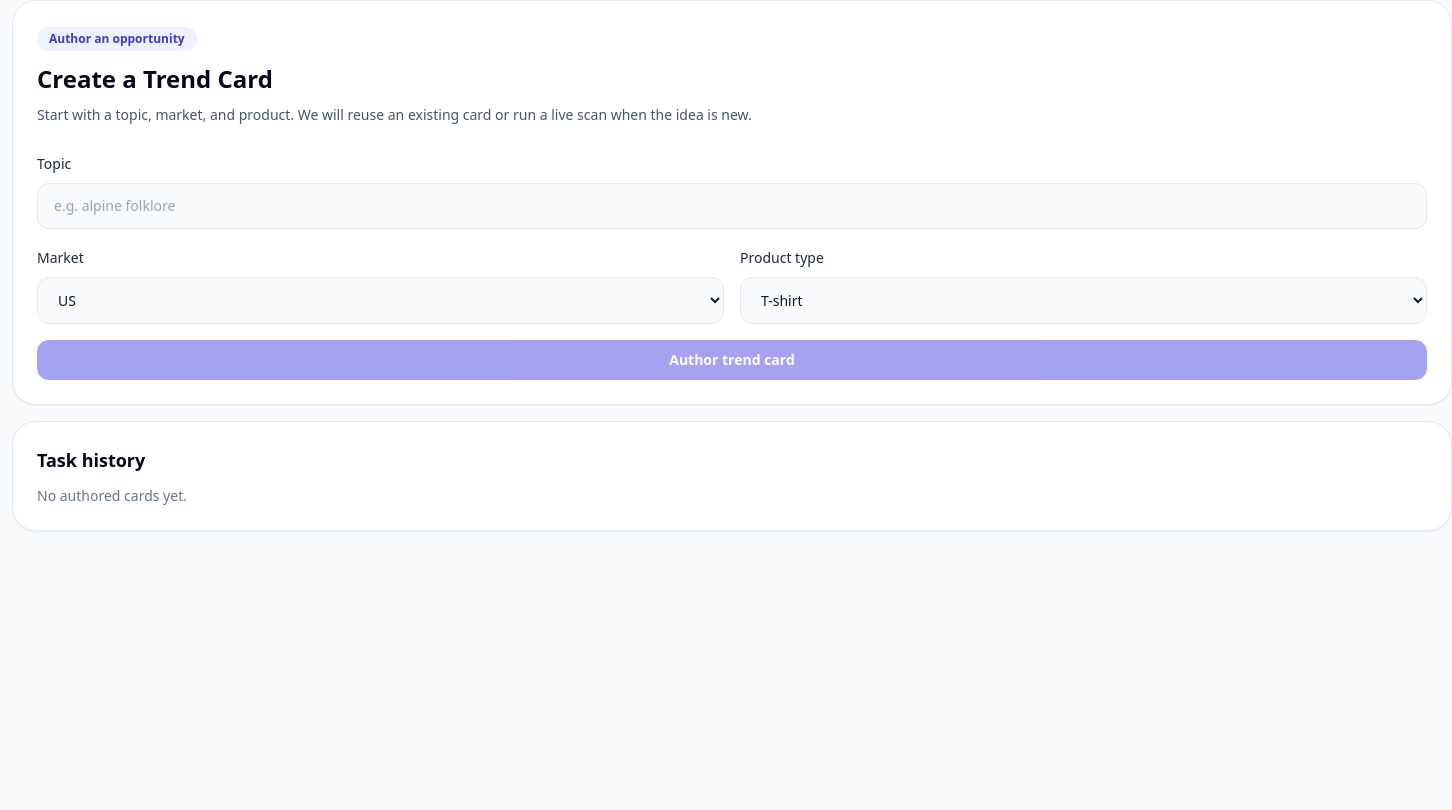
Test: SeedAuthoringPanel › shows the current scanning source in the active task and history row
Type "alpine folklore" into the field labelled "Topic".
click(732, 206); type("alpine folklore")  # box [37, 183, 1427, 229]
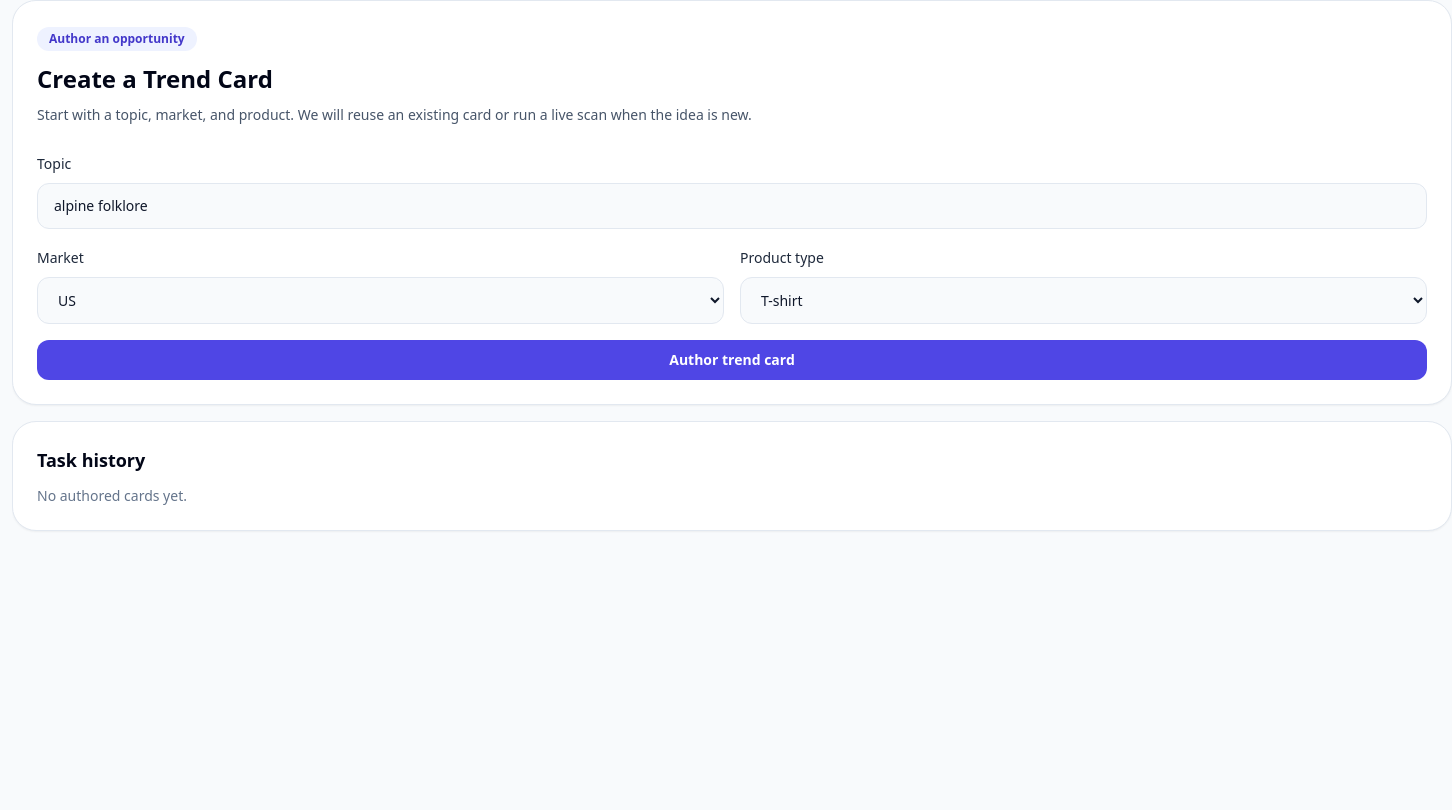
Click the button "Author trend card".
click(732, 360)  # box [37, 340, 1427, 380]
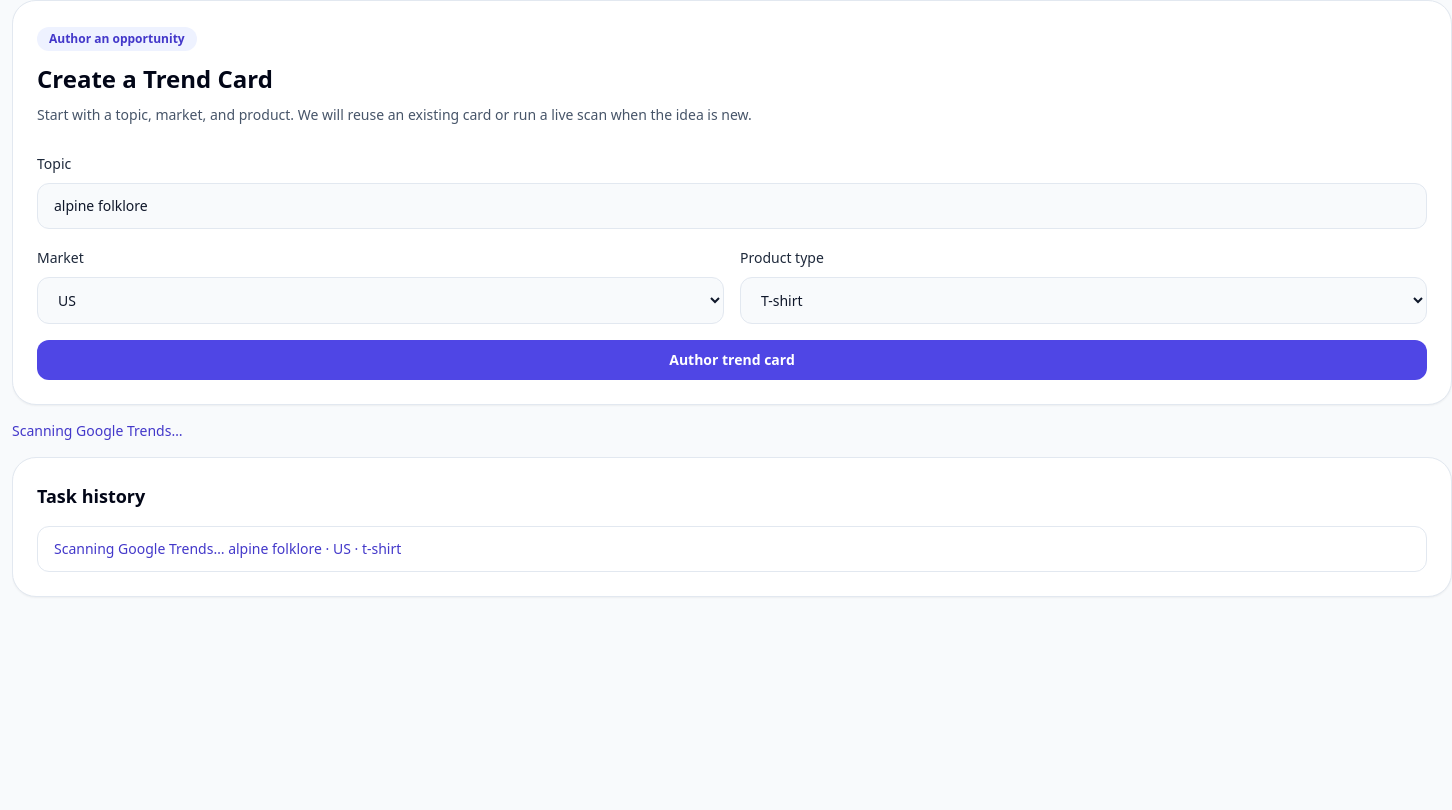
Expected: the text "Scanning Google Trends…" is shown 2 times, [12, 421, 182, 440]; [54, 539, 401, 558]
